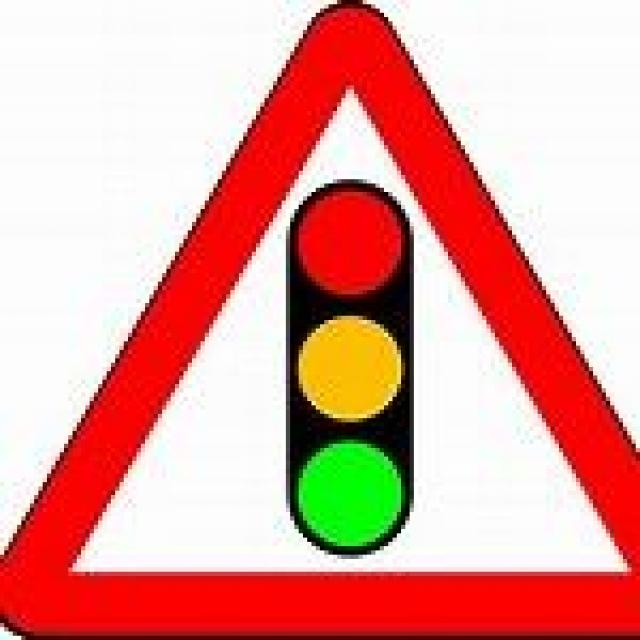TRAFFIC_SIGNAL: (0, 0, 636, 636)
